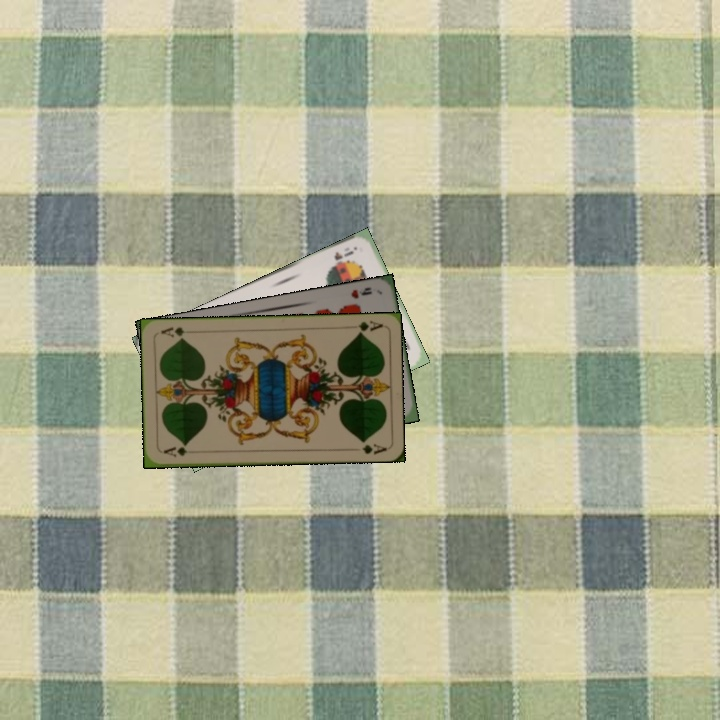GA: (159, 442, 199, 460), (353, 317, 385, 337)
H9: (347, 283, 375, 301)
SO: (324, 247, 356, 271)
